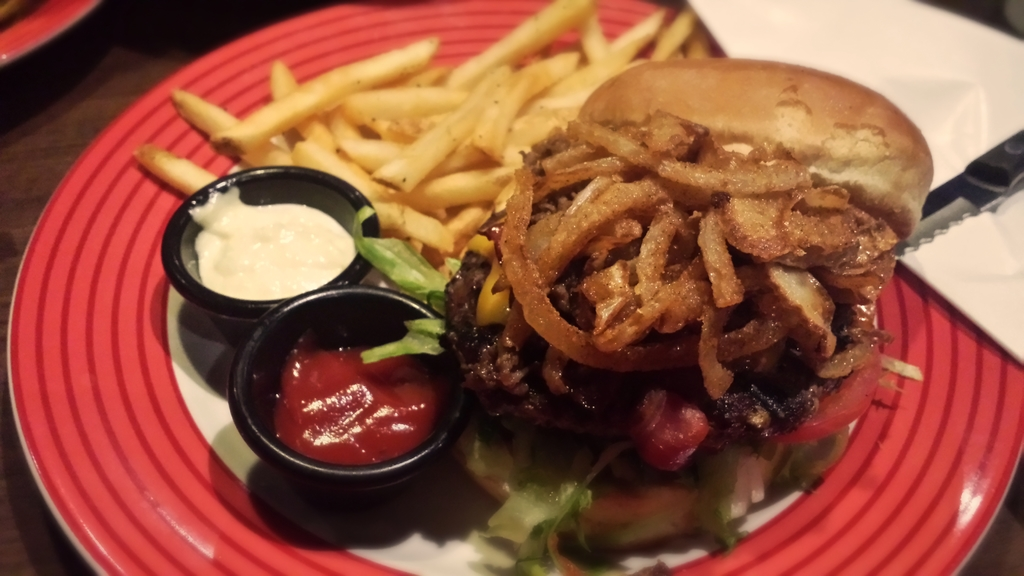French fries: (126, 0, 730, 284)
